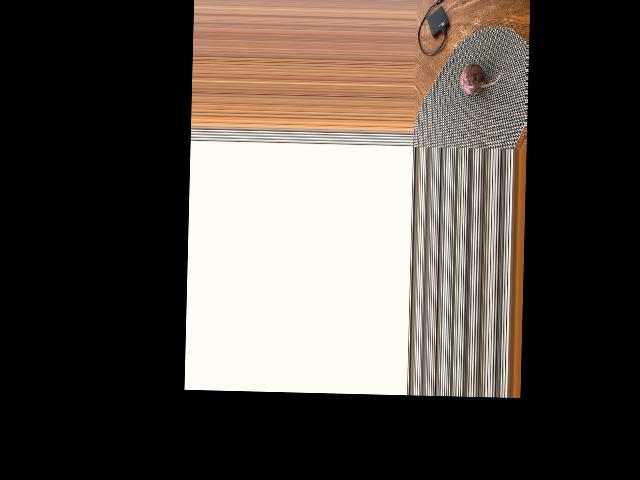beet: (460, 62, 502, 95)
